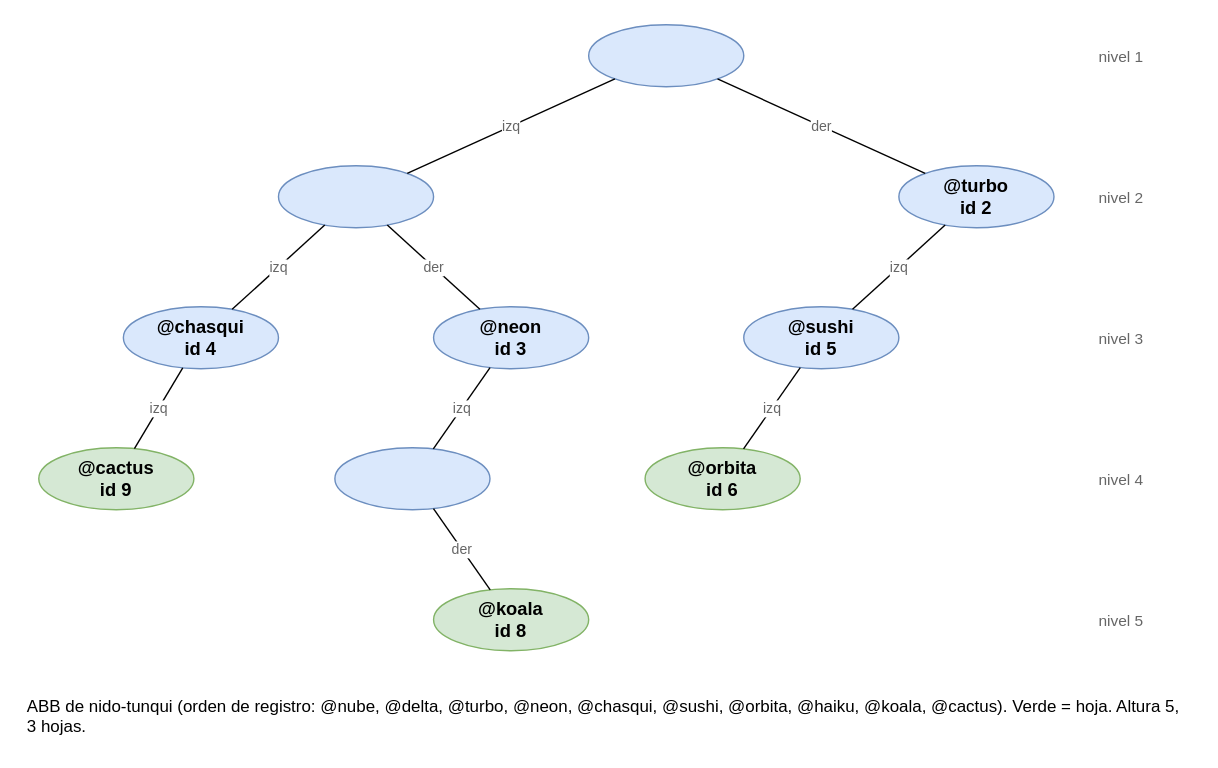
The diagram is 1218 pixels wide and 768 high, and some of its shapes have lost their labels. The centre of each missing label's shape, as x and y in pixels:
@delta id 1: point (355, 196)
@haiku id 7: point (411, 478)
@nube id 0: point (665, 55)
